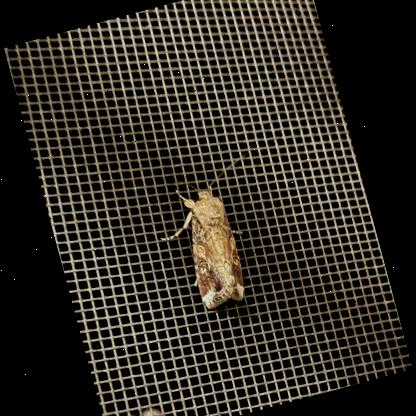Fall Armyworm Moth: (146, 173, 262, 320)
